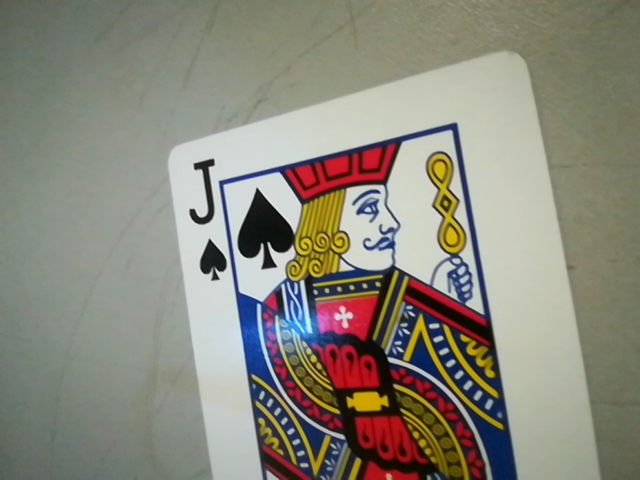ht j: (179, 148, 231, 290)
